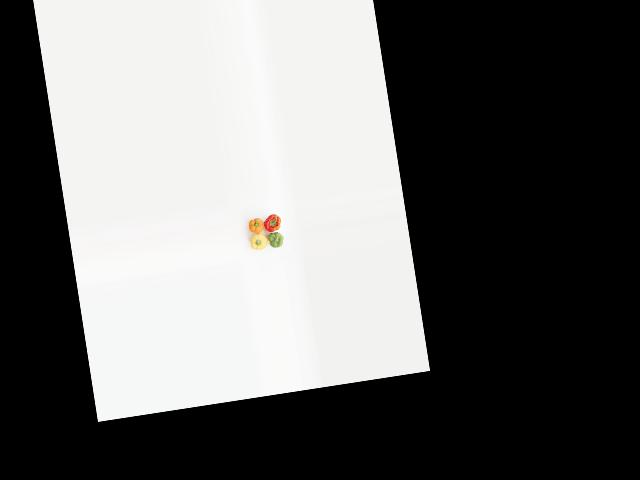bell_pepper: (265, 227, 286, 253)
